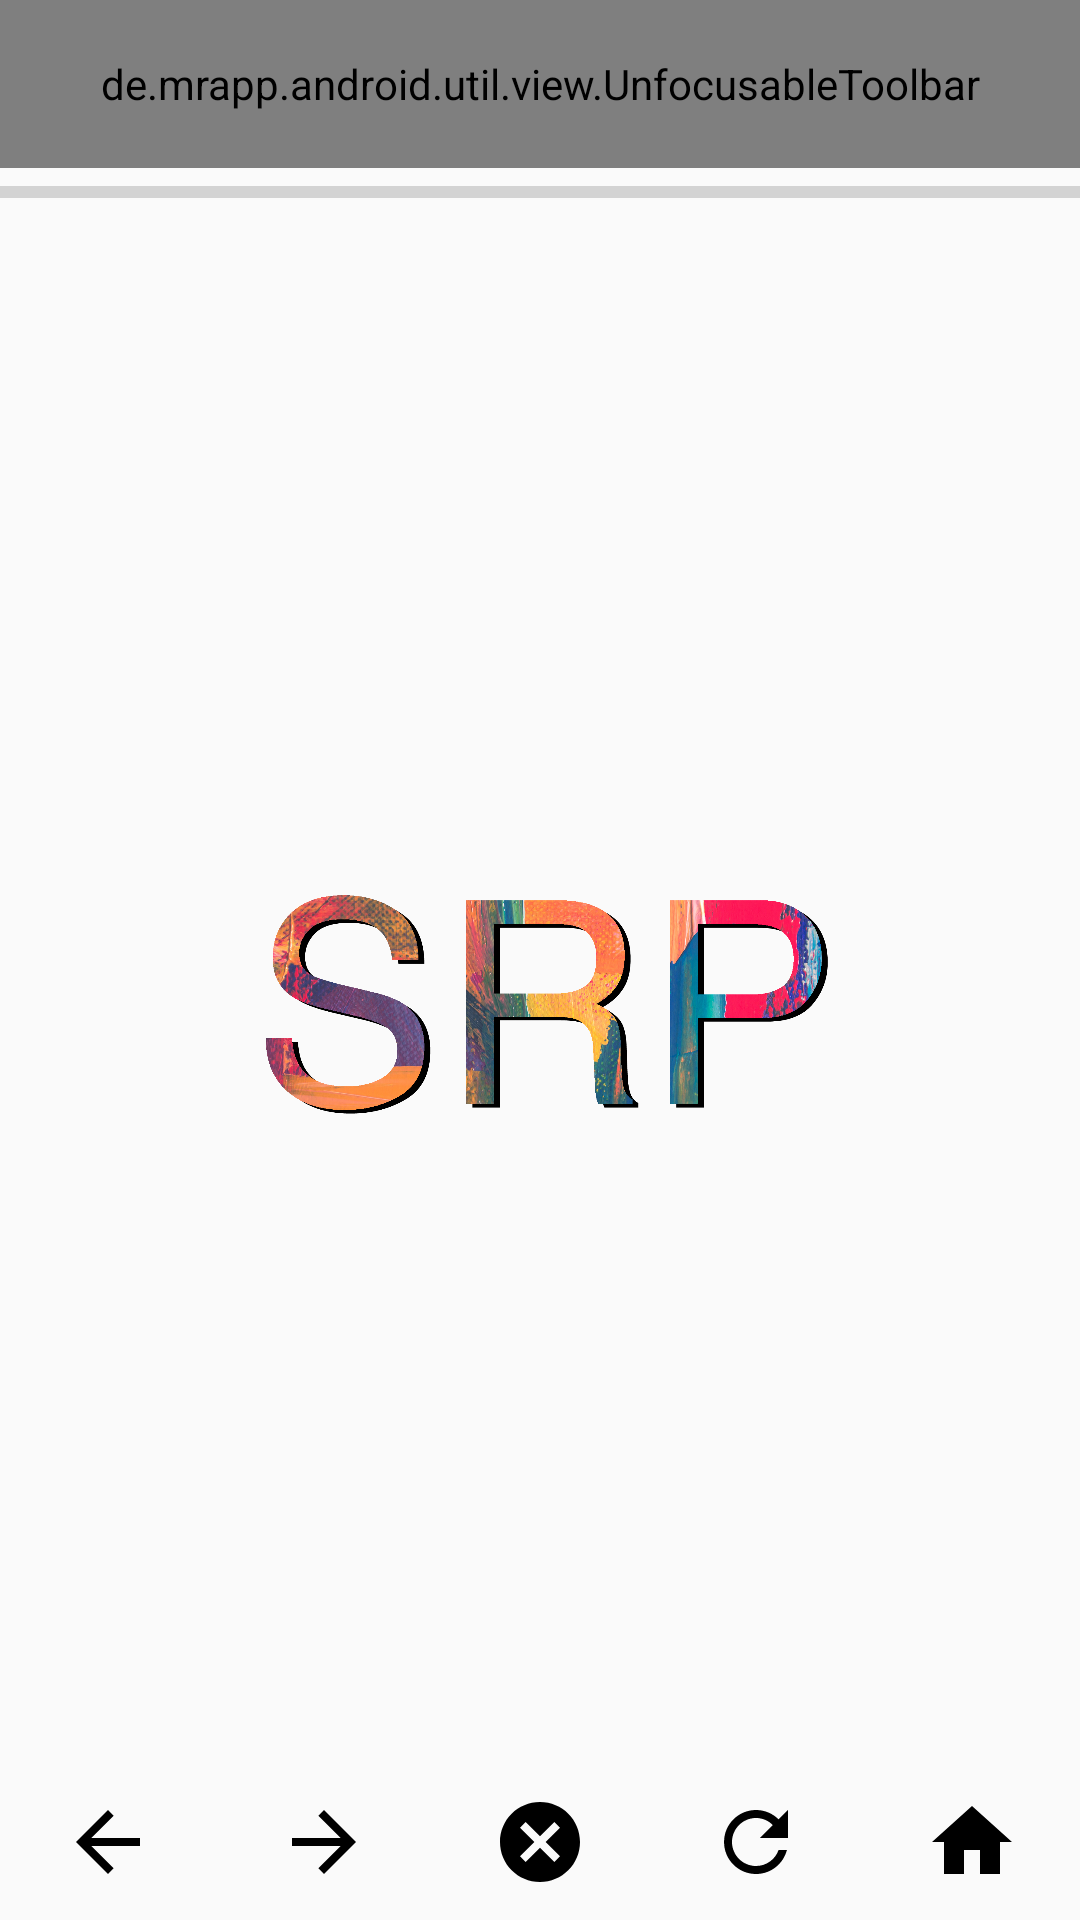

Icons on this 1080*1920 Android screen, each with its box as {"left": x1, "top": y1, "right": x2, "bottom": y2}:
arrow back: {"left": 76, "top": 1810, "right": 140, "bottom": 1874}
cancel: {"left": 500, "top": 1802, "right": 580, "bottom": 1882}
forward: {"left": 292, "top": 1810, "right": 356, "bottom": 1874}
home: {"left": 932, "top": 1806, "right": 1012, "bottom": 1874}
refresh: {"left": 724, "top": 1810, "right": 788, "bottom": 1874}
